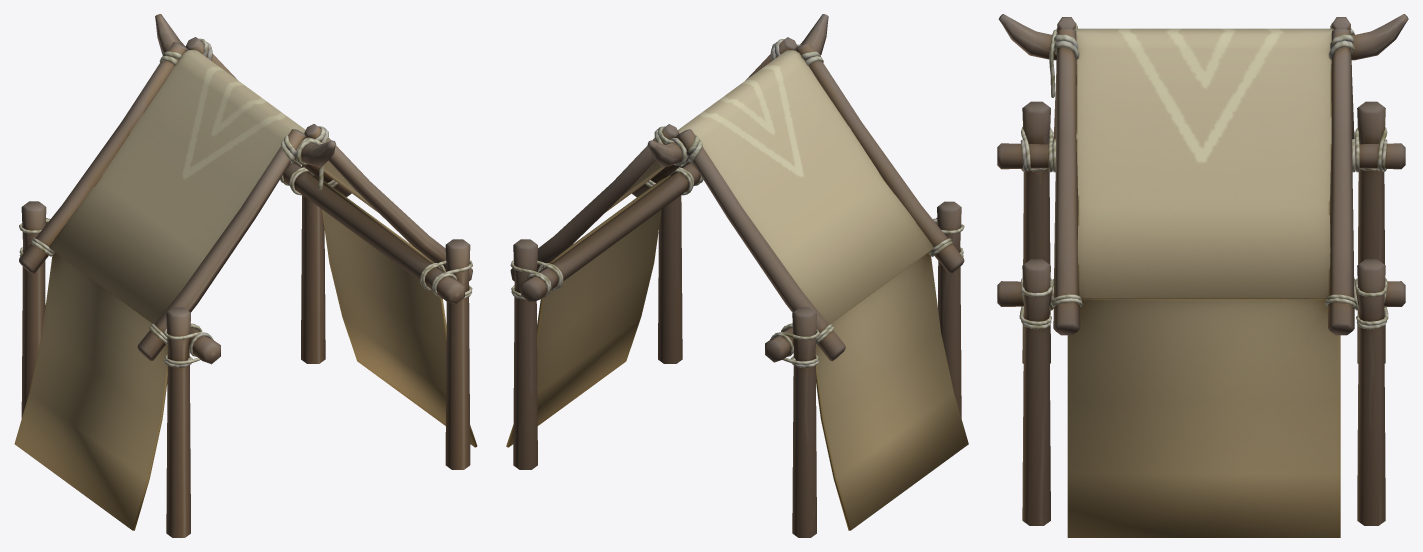
The model's file is Dome.fbx.
3 views of the same model, side by side, from view 1: azimuth 30°, elevation 25°; view 2: azimuth 150°, elevation 25°; view 3: azimuth 270°, elevation 25° (orthographic). The views are drawn at different scales.
Visible parts, largest first — view 1: Cylinder.020; view 2: Cylinder.020; view 3: Cylinder.020.
Part boxes in pixels (x1,y1,x2,y2): Cylinder.020: (14,14,477,537); Cylinder.020: (506,14,968,537); Cylinder.020: (997,14,1408,537).
Bounding box in the file's own units: 437 × 447 × 391.
Materials: 1 (1 with a texture image).
